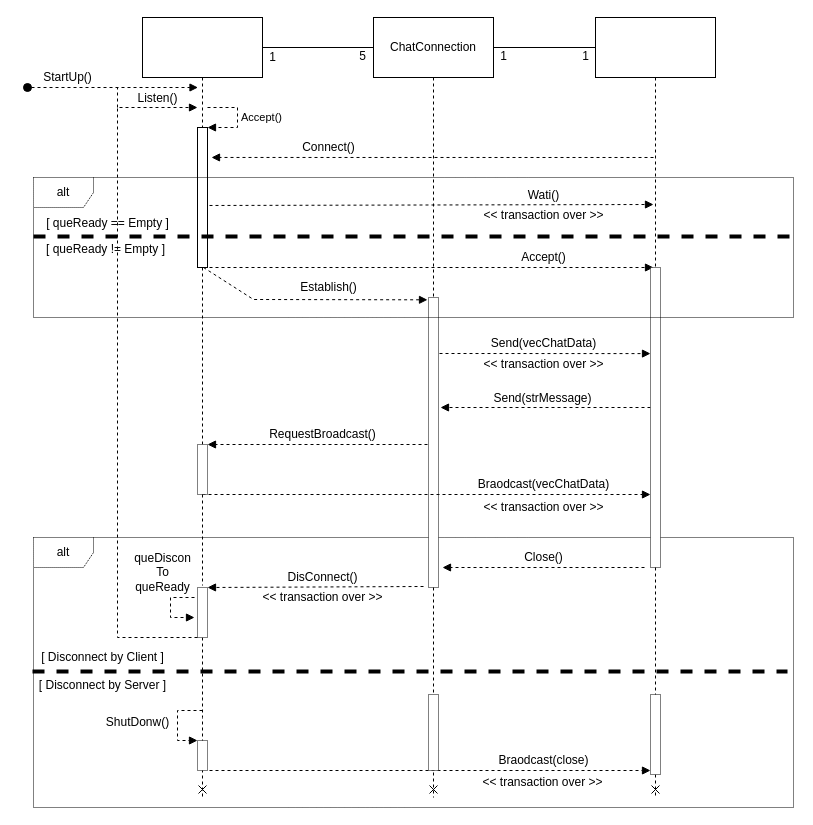
Image size: 813x825. Some labels were removed from this diagram. Here are the shapes that lost their labels. From the top down, the centre of each, then its label:
At [202,47]: "Server".
At [655,47]: "Client".
